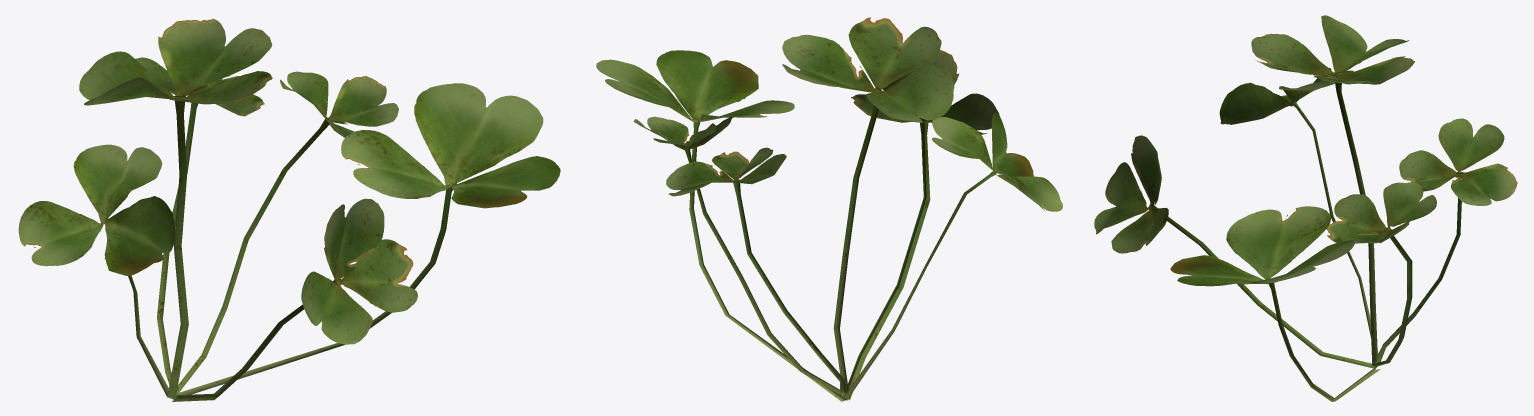
The model's file is ph-sorrel-b.glb.
3 renders of one model, left to right at view 1: azimuth 30°, elevation 25°; view 2: azimuth 150°, elevation 25°; view 3: azimuth 270°, elevation 25°, orthographic. The views are drawn at different scales.
Visible parts, largest first — view 1: ph-sorrel-b; view 2: ph-sorrel-b; view 3: ph-sorrel-b.
Boxes of the visible parts, x1,y1,x2,y2 form: ph-sorrel-b: (18,18,560,401); ph-sorrel-b: (596,17,1062,401); ph-sorrel-b: (1094,15,1517,401).
Size of the model in its own units: 0.0726 by 0.0495 by 0.059.
1 material, 1 textured.
